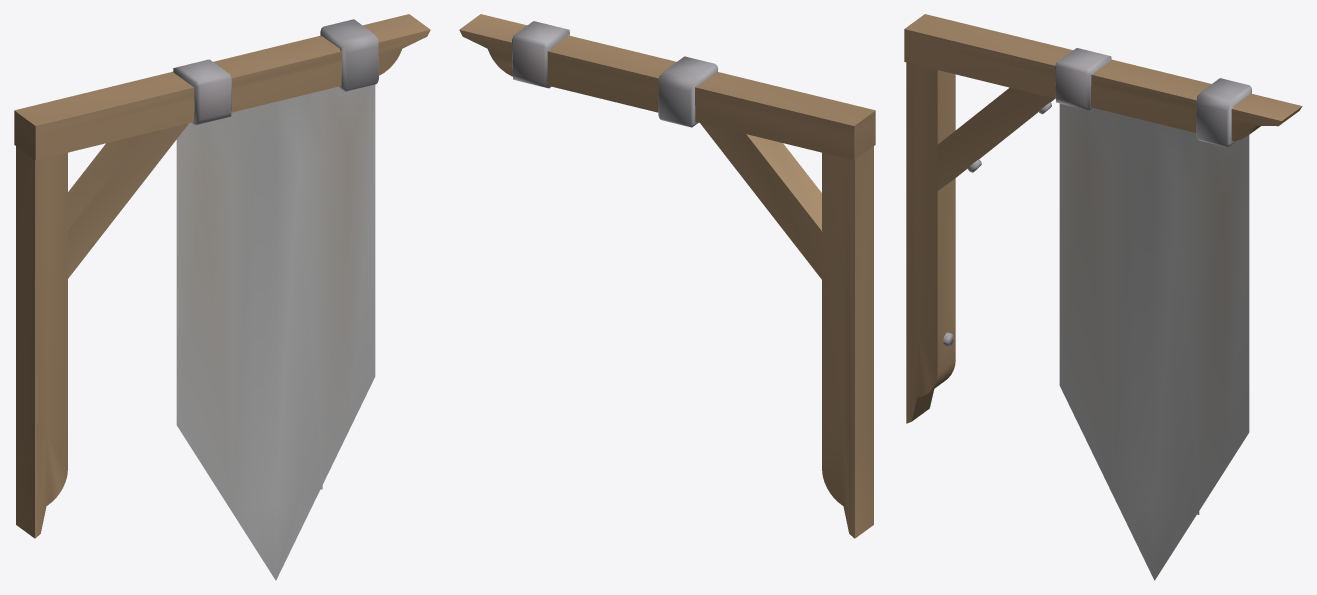
Rendered from Banner_2.glb.
The picture shows the model from 3 angles, left to right: view 1: azimuth 30°, elevation 25°; view 2: azimuth 150°, elevation 25°; view 3: azimuth 330°, elevation 25°; orthographic projection. The views are drawn at different scales.
Visible parts, largest first — view 1: Banner_2_286ac8, Banner_2_62a7b2, Banner_2_06d56c; view 2: Banner_2_62a7b2, Banner_2_06d56c; view 3: Banner_2_286ac8, Banner_2_62a7b2, Banner_2_06d56c.
Part boxes in pixels (x1=…): Banner_2_286ac8: x1=176, y1=84, x2=375, y2=580; Banner_2_62a7b2: x1=14, y1=14, x2=430, y2=538; Banner_2_06d56c: x1=173, y1=19, x2=378, y2=125; Banner_2_62a7b2: x1=459, y1=14, x2=875, y2=538; Banner_2_06d56c: x1=512, y1=21, x2=717, y2=127; Banner_2_286ac8: x1=1059, y1=103, x2=1249, y2=580; Banner_2_62a7b2: x1=904, y1=14, x2=1302, y2=423; Banner_2_06d56c: x1=943, y1=48, x2=1251, y2=345.
Size of the model in its own units: 1.61 by 2.08 by 0.1906.
